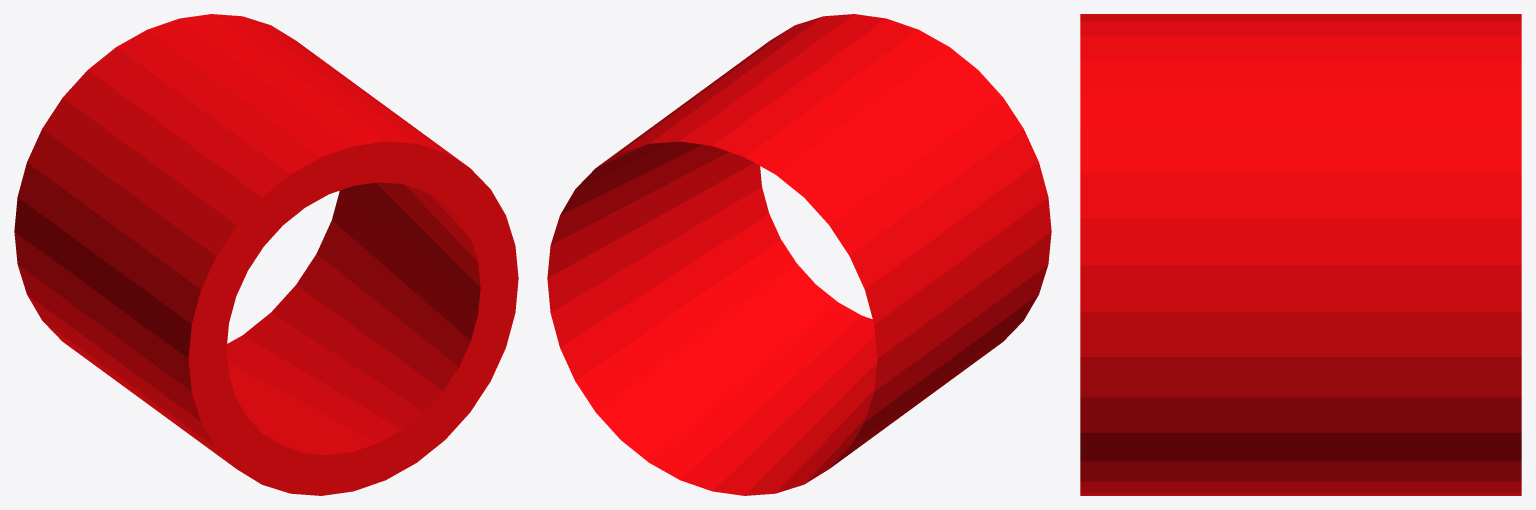
The model's file is bURACO.fbx.
3 views of the same model, side by side, from view 1: azimuth 30°, elevation 25°; view 2: azimuth 150°, elevation 25°; view 3: azimuth 270°, elevation 25° (orthographic). The views are drawn at different scales.
Parts seen in each view (by area): view 1: BURACO; view 2: BURACO; view 3: BURACO.
Boxes of the visible parts, left/top/right/bottom form: BURACO: left=14, top=14, right=518, bottom=495; BURACO: left=547, top=14, right=1051, bottom=495; BURACO: left=1080, top=14, right=1521, bottom=495.
Size of the model in its own units: 351 by 351 by 321.
